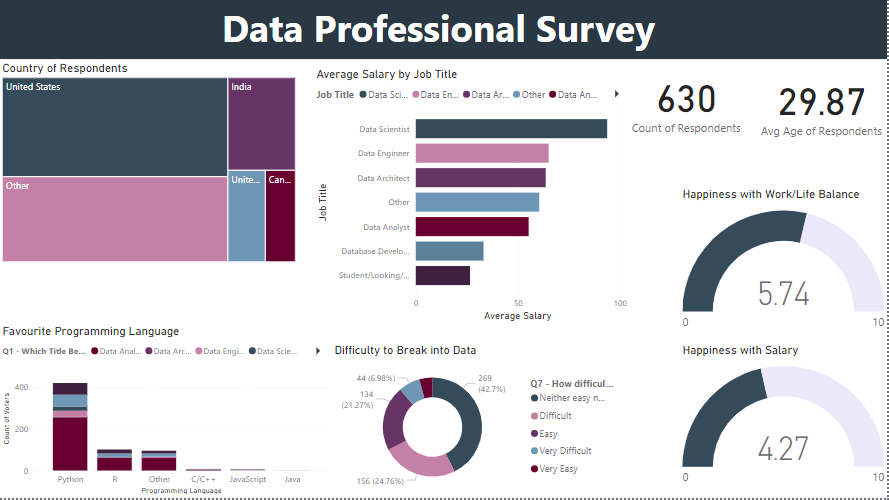

Layout of this report page (visuals, bound fields, positions):
{"tool":"powerbi","page":{"name":"Page 1","canvas":[1280,720],"ordinal":0},"visuals":[{"type":"textbox","box":[0,0,1280,89],"z":0},{"type":"card","fields":{"Values":["CountNonNull(Data Professional Survey.Unique ID)"]},"box":[892,90.7,196.5,115.9],"z":1000},{"type":"card","fields":{"Values":["Avg(Data Professional Survey.Q10 - Current Age)"]},"box":[1088.5,89,191.5,127.7],"z":2000},{"type":"barChart","title":"Average Salary by Job Title","fields":{"Category":["Data Professional Survey.Q1 - Which Title Best Fits your Current Role?.1"],"Y":["Avg(Data Professional Survey.Average Salary)"],"Series":["Data Professional Survey.Q1 - Which Title Best Fits your Current Role?.1"]},"box":[451.9,99.1,456.9,371.2],"z":3000},{"type":"columnChart","title":"Favourite Programming Language","fields":{"Category":["Data Professional Survey.Q5 - Favorite Programming Language.1"],"Y":["CountNonNull(Data Professional Survey.Unique ID)"],"Series":["Data Professional Survey.Q1 - Which Title Best Fits your Current Role?.1"]},"box":[0,470,479,250],"z":4000},{"type":"treemap","title":"Country of Respondents","fields":{"Group":["Data Professional Survey.Q11 - Which Country do you live in?.1"],"Values":["CountNonNull(Data Professional Survey.Q11 - Which Country do you live in?.1)"]},"box":[0,90.7,431.7,294],"z":5000},{"type":"gauge","title":"Happiness with Work/Life Balance","fields":{"Y":["Avg(Data Professional Survey.Q6 - How Happy are you in your Current Position with the following? (Work/Life Balance))"],"MinValue":["Min(Data Professional Survey.Q6 - How Happy are you in your Current Position with the following? (Work/Life Balance))"],"MaxValue":["Max(Data Professional Survey.Q6 - How Happy are you in your Current Position with the following? (Work/Life Balance))"]},"box":[979.3,272.1,300.7,225.1],"z":6000},{"type":"gauge","title":"Happiness with Salary","fields":{"Y":["Avg(Data Professional Survey.Q6 - How Happy are you in your Current Position with the following? (Salary))"],"MinValue":["Min(Data Professional Survey.Q6 - How Happy are you in your Current Position with the following? (Salary))"],"MaxValue":["Max(Data Professional Survey.Q6 - How Happy are you in your Current Position with the following? (Salary))"]},"box":[979.3,497.2,300.7,223.4],"z":7000},{"type":"donutChart","title":"Difficulty to Break into Data","fields":{"Category":["Data Professional Survey.Q7 - How difficult was it for you to break into Data?"],"Y":["CountNonNull(Data Professional Survey.Q7 - How difficult was it for you to break into Data?)"]},"box":[478.1,496.8,413.3,223.2],"z":8000}]}

Visuals, with their boxes in screenshot pixels (x1, y1, x2, y2), scaled from the page's 1280x720 canvas onto the 889x500 screenshot:
textbox: x1=0 y1=0 x2=888 y2=62
card - CountNonNull(Data Professional Survey.Unique ID): x1=620 y1=63 x2=756 y2=143
card - Avg(Data Professional Survey.Q10 - Current Age): x1=756 y1=62 x2=888 y2=150
"Average Salary by Job Title" barChart: x1=314 y1=69 x2=631 y2=327
"Favourite Programming Language" columnChart: x1=0 y1=326 x2=333 y2=499
"Country of Respondents" treemap: x1=0 y1=63 x2=300 y2=267
"Happiness with Work/Life Balance" gauge: x1=680 y1=189 x2=888 y2=345
"Happiness with Salary" gauge: x1=680 y1=345 x2=888 y2=499
"Difficulty to Break into Data" donutChart: x1=332 y1=345 x2=619 y2=499
